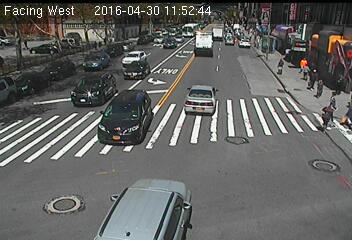neg: (71, 60, 97, 95), (189, 59, 211, 88), (35, 58, 55, 84), (133, 67, 151, 92), (199, 36, 217, 61)
pos: (295, 59, 311, 81), (313, 77, 329, 98), (271, 56, 287, 76)
